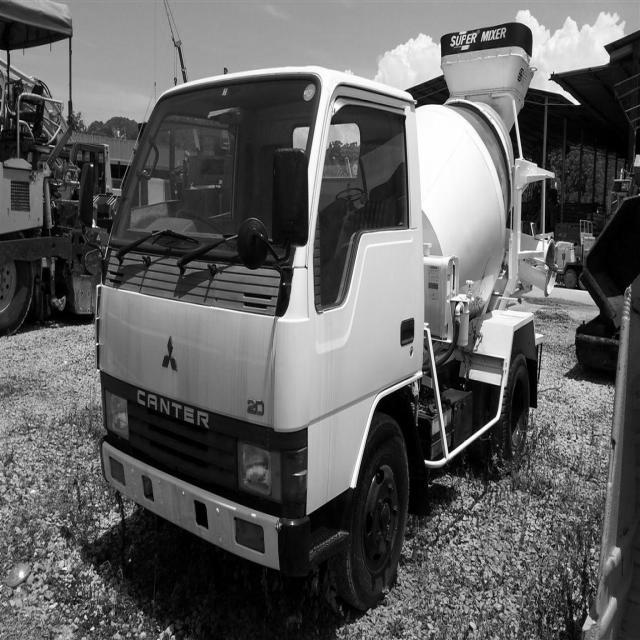truck: (46, 29, 507, 614)
